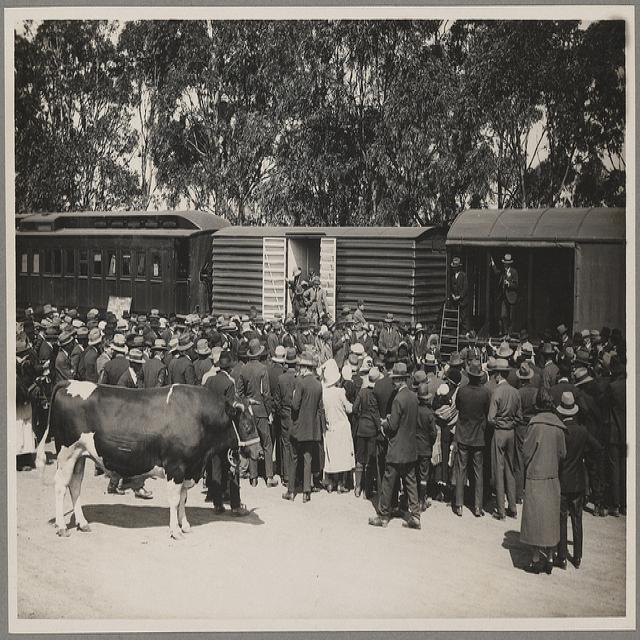cow: (33, 372, 265, 539)
